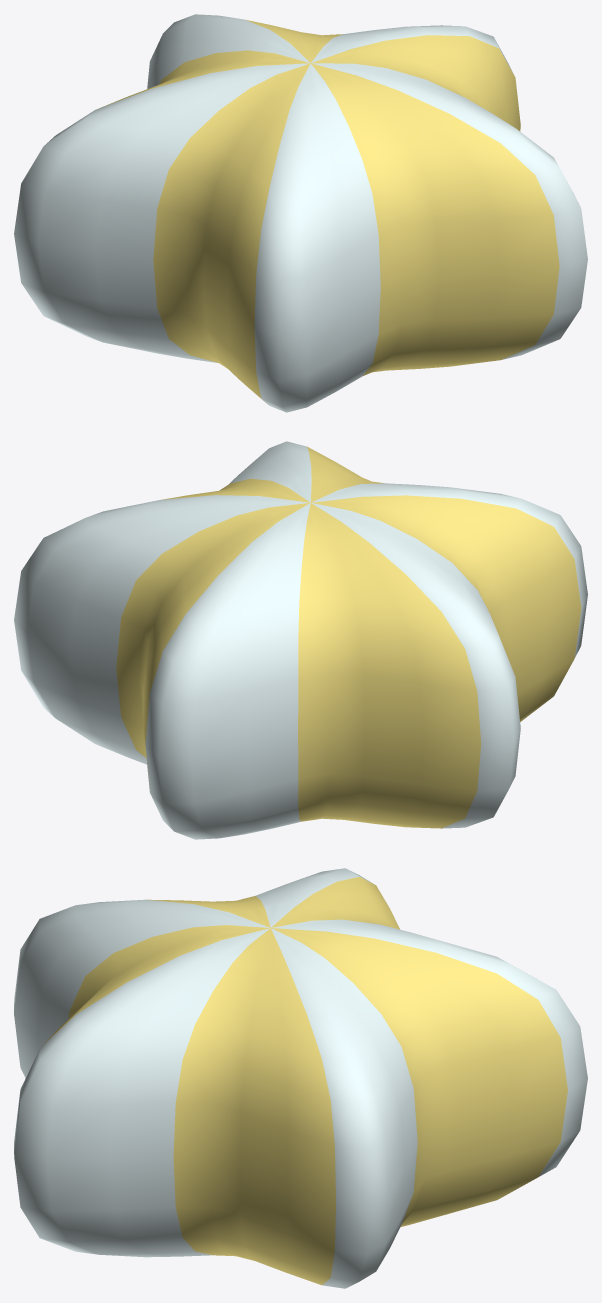
File: Mintstar_04.fbx
The picture shows the model from 3 angles, top to bottom: view 1: azimuth 30°, elevation 25°; view 2: azimuth 150°, elevation 25°; view 3: azimuth 270°, elevation 25°; orthographic projection. The views are drawn at different scales.
Parts seen in each view (by area): view 1: Mintstar_04_LOD0; view 2: Mintstar_04_LOD0; view 3: Mintstar_04_LOD0.
Boxes of the visible parts, x1,y1,x2,y2 form: Mintstar_04_LOD0: (14,14,587,412); Mintstar_04_LOD0: (14,441,587,839); Mintstar_04_LOD0: (14,868,587,1288).
Size of what is drawn, in the model's own units: 447 by 246 by 426.
